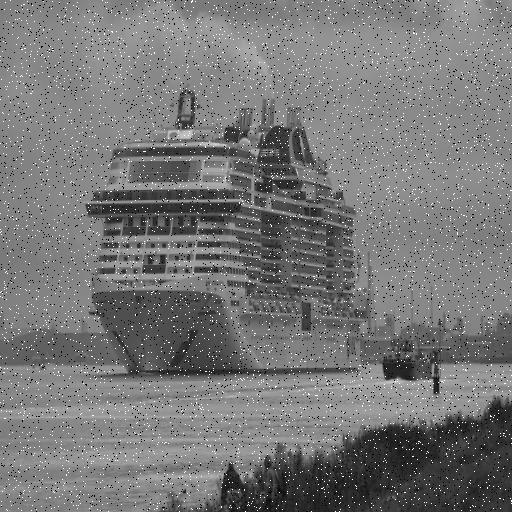cruises: (79, 83, 375, 386)
